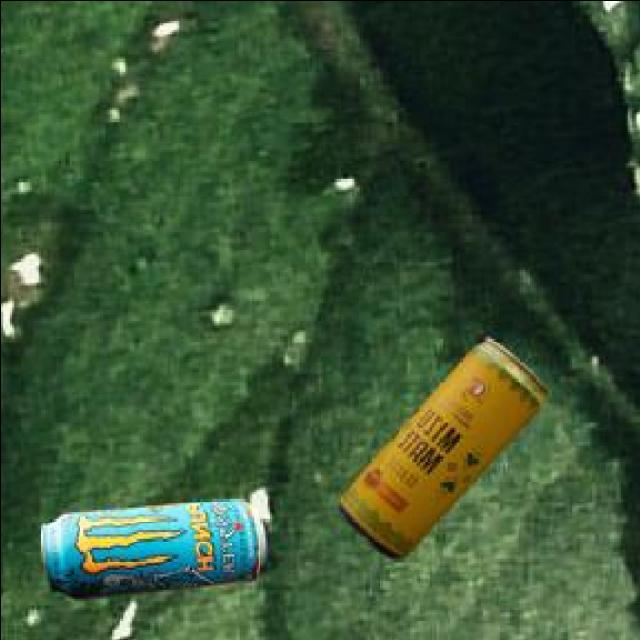logam: (341, 334, 550, 554), (43, 494, 268, 594)
